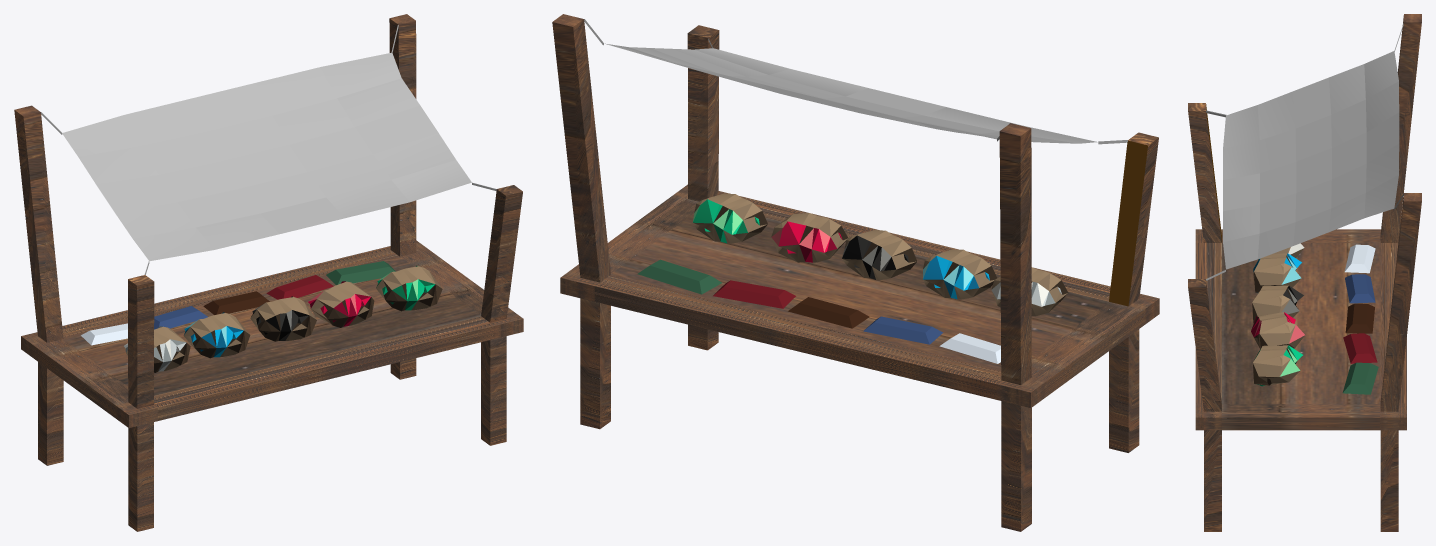
The model's file is high level smithing stall.glb.
3 views of the same model, side by side, from view 1: azimuth 30°, elevation 25°; view 2: azimuth 150°, elevation 25°; view 3: azimuth 270°, elevation 25° (orthographic). The views are drawn at different scales.
Visible parts, largest first — view 1: MithrilBar.002; view 2: MithrilBar.002; view 3: MithrilBar.002.
Boxes of the visible parts, x1=… form: MithrilBar.002: x1=14, y1=14, x2=523, y2=531; MithrilBar.002: x1=552, y1=14, x2=1159, y2=531; MithrilBar.002: x1=1188, y1=14, x2=1421, y2=531.
Bounding box in the file's own units: 1.9 × 1.58 × 0.9964.
43 materials, 1 textured.
